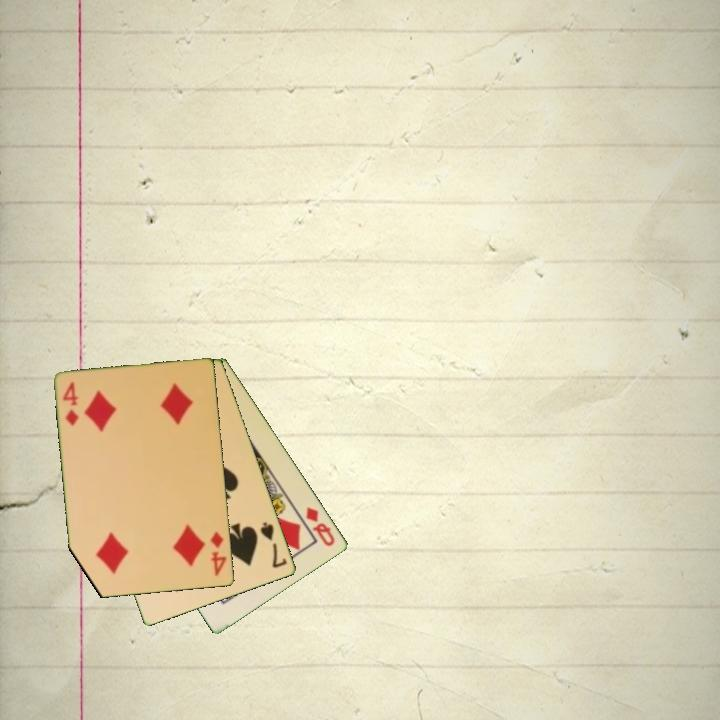4d: (207, 528, 230, 579), (59, 379, 82, 429)
7s: (257, 519, 290, 571)
Qd: (303, 503, 338, 550)
